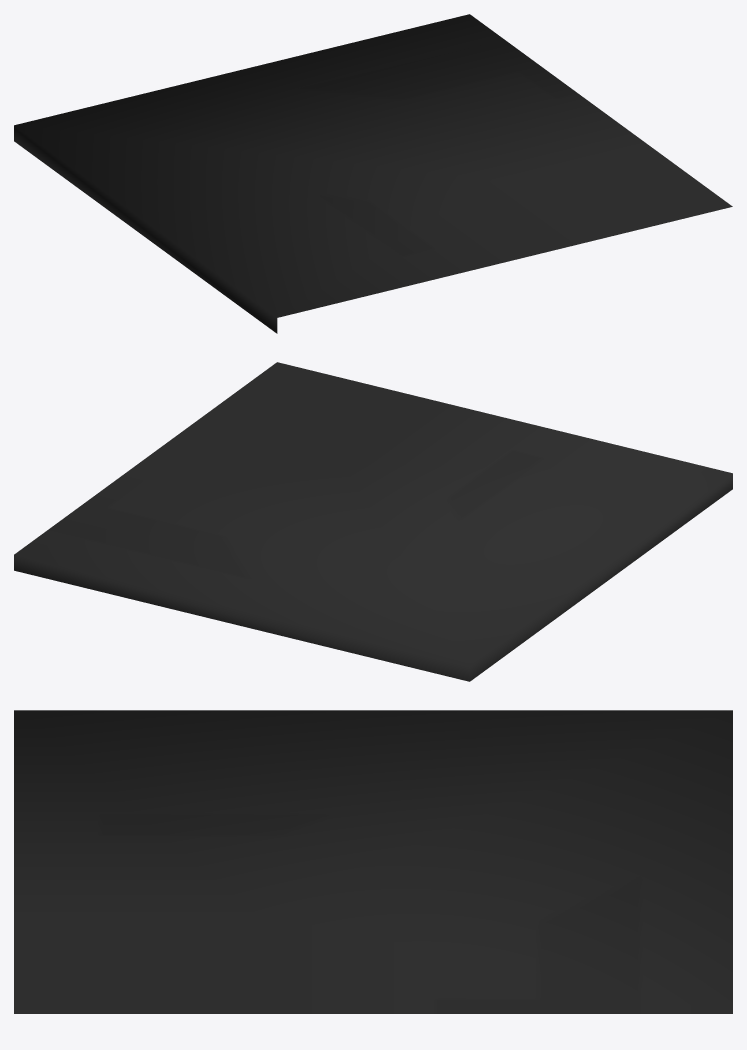
Rendered from BottomSimple_Corner_Square_Outer_2.glb.
3 views of the same model, one above another, from view 1: azimuth 30°, elevation 25°; view 2: azimuth 150°, elevation 25°; view 3: azimuth 270°, elevation 25° (orthographic). The views are drawn at different scales.
Visible parts, largest first — view 1: BottomSimple_Corner_Square_Outer_2; view 2: BottomSimple_Corner_Square_Outer_2; view 3: BottomSimple_Corner_Square_Outer_2.
Part boxes in pixels (<box>): BottomSimple_Corner_Square_Outer_2: <box>14,14,732,333</box>; BottomSimple_Corner_Square_Outer_2: <box>14,362,732,681</box>; BottomSimple_Corner_Square_Outer_2: <box>14,710,732,1013</box>.
Bounding box in the file's own units: 0.6 × 0.02 × 0.6.
Materials: 1 (1 with a texture image).
